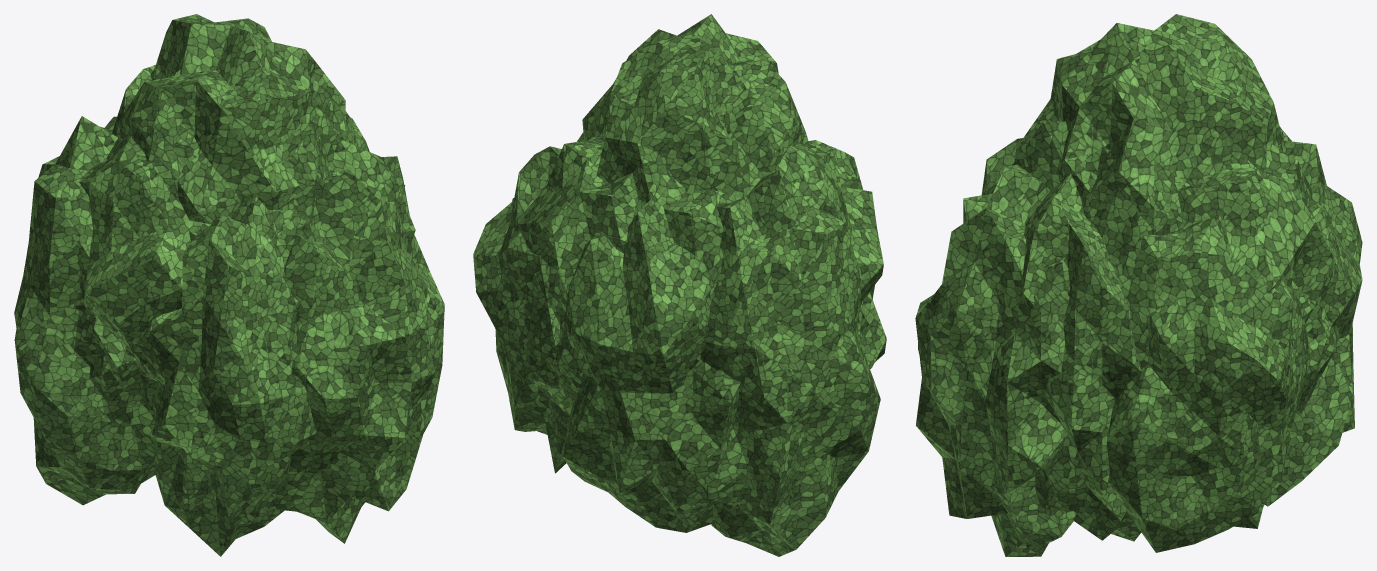
3 renders of one model, left to right at view 1: azimuth 30°, elevation 25°; view 2: azimuth 150°, elevation 25°; view 3: azimuth 270°, elevation 25°, orthographic. The views are drawn at different scales.
Parts seen in each view (by area): view 1: diameter=1.2;foliageMaterial=foliage;height=1.2; view 2: diameter=1.2;foliageMaterial=foliage;height=1.2; view 3: diameter=1.2;foliageMaterial=foliage;height=1.2.
Part boxes in pixels (x1,y1,x2,y2): diameter=1.2;foliageMaterial=foliage;height=1.2: [14, 14, 444, 556]; diameter=1.2;foliageMaterial=foliage;height=1.2: [473, 14, 886, 556]; diameter=1.2;foliageMaterial=foliage;height=1.2: [915, 14, 1362, 556].
Size of the model in its own units: 1.12 by 1.1 by 1.39.
Materials: 1 (1 with a texture image).
